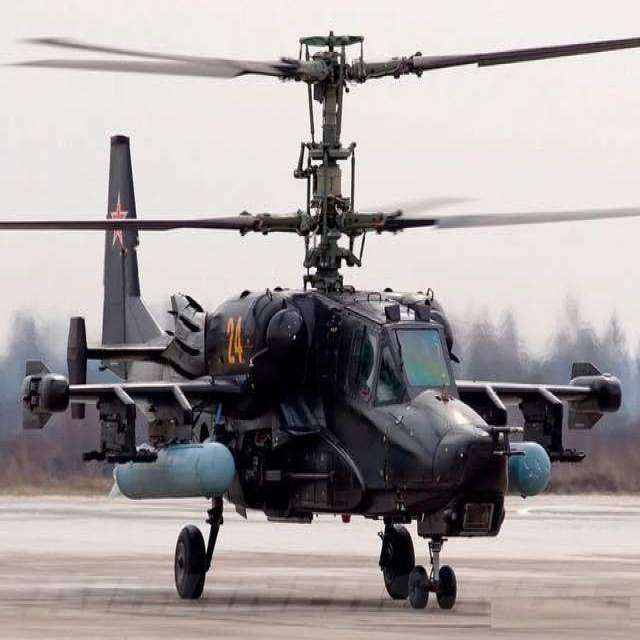MIL_HELO: (0, 12, 640, 628)
